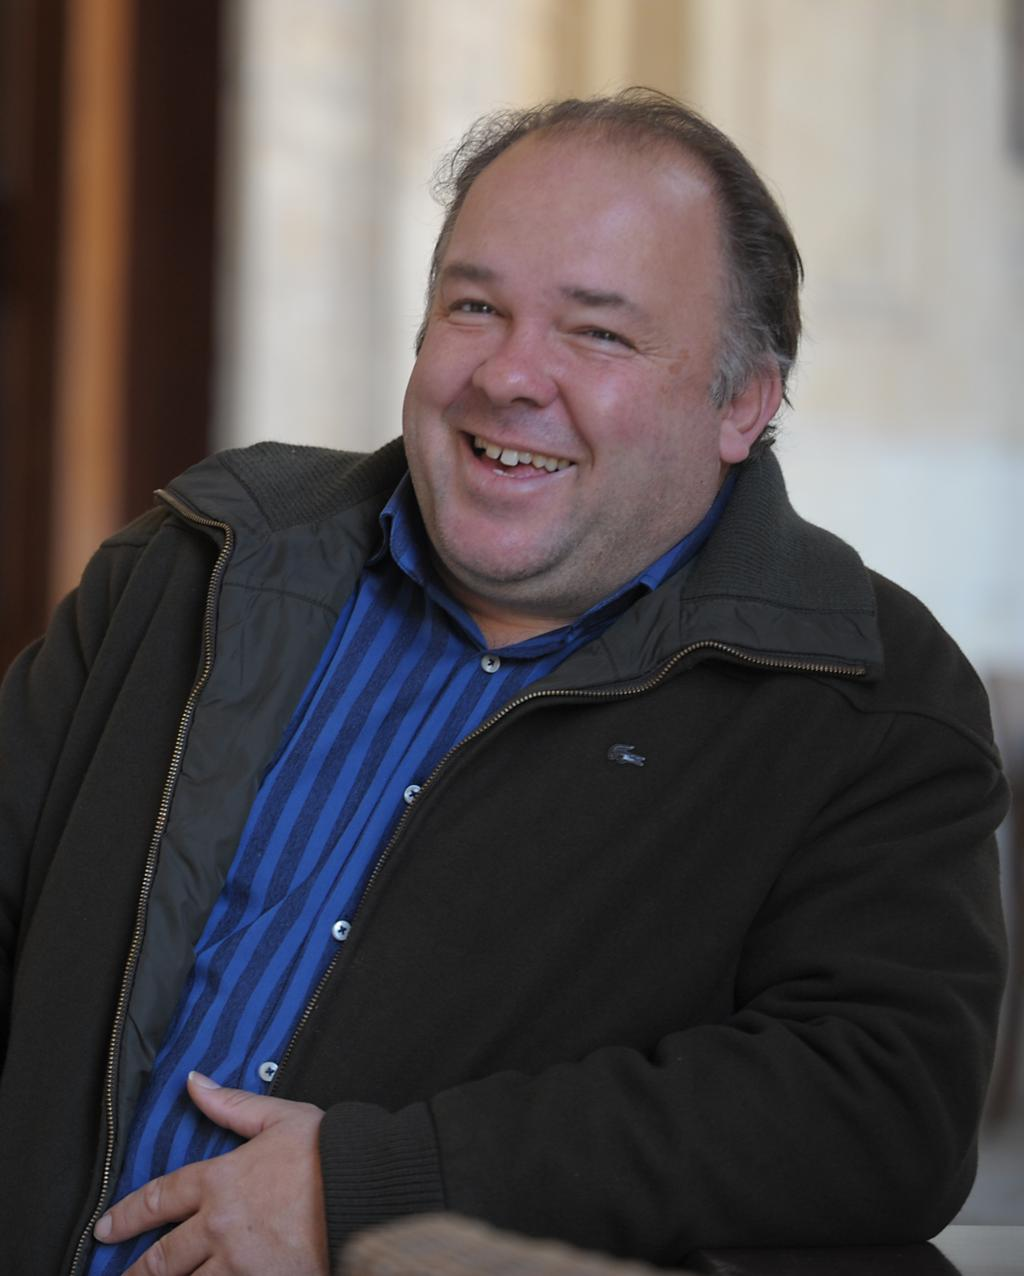face: (406, 122, 737, 583)
